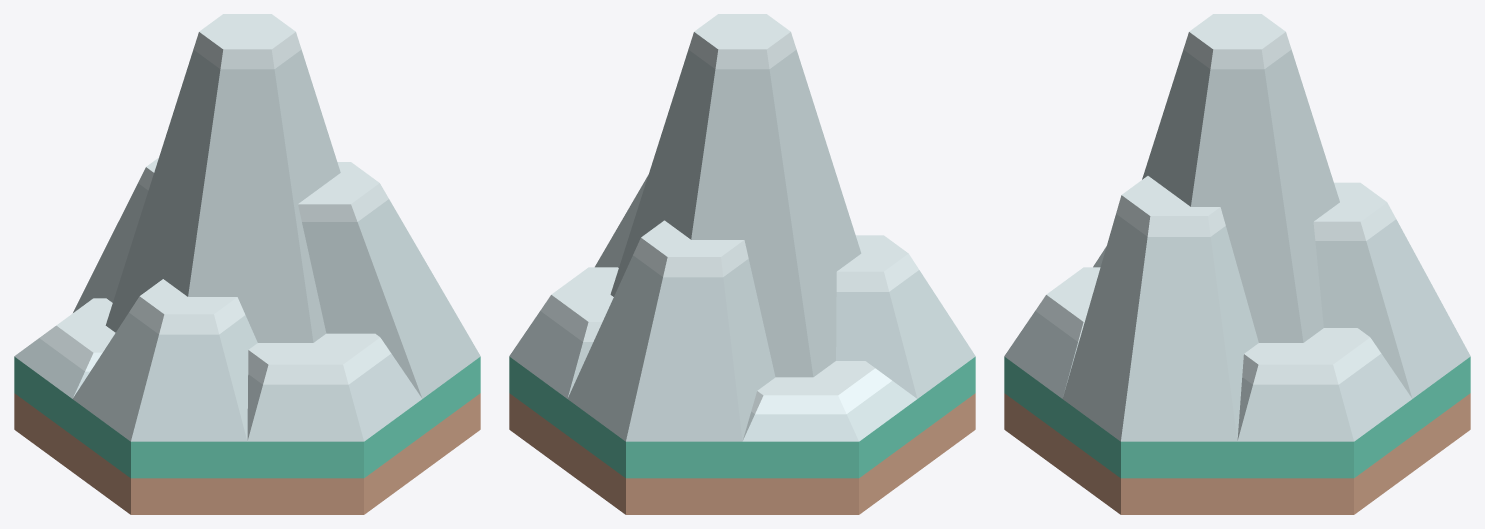
File: HighMountainCell.fbx
3 renders of one model, left to right at view 1: azimuth 30°, elevation 25°; view 2: azimuth 150°, elevation 25°; view 3: azimuth 270°, elevation 25°, orthographic.
Parts seen in each view (by area): view 1: Mountain, Grass; view 2: Mountain, Grass; view 3: Mountain, Grass.
Boxes of the visible parts, <box> form: Mountain: <box>14,14,480,441</box>; Grass: <box>14,356,480,514</box>; Mountain: <box>509,14,975,441</box>; Grass: <box>509,356,975,514</box>; Mountain: <box>1004,14,1470,441</box>; Grass: <box>1004,356,1470,514</box>.
Size of the model in its own units: 100 by 109 by 115.
